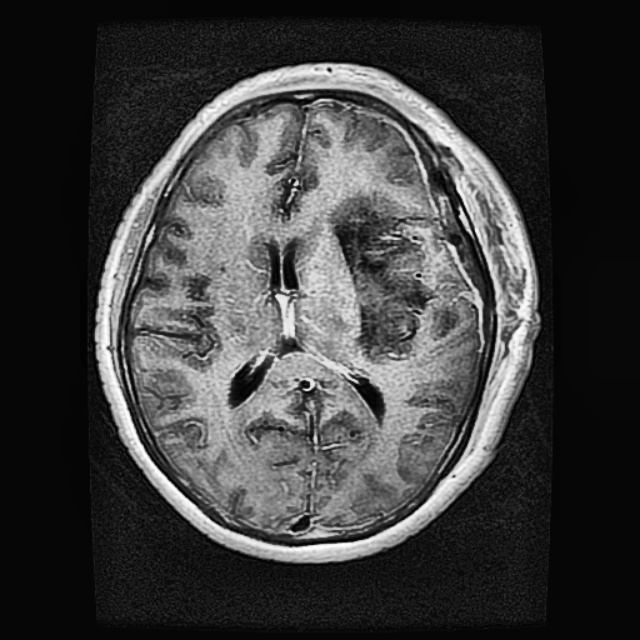Pituitary: (327, 190, 437, 359)
